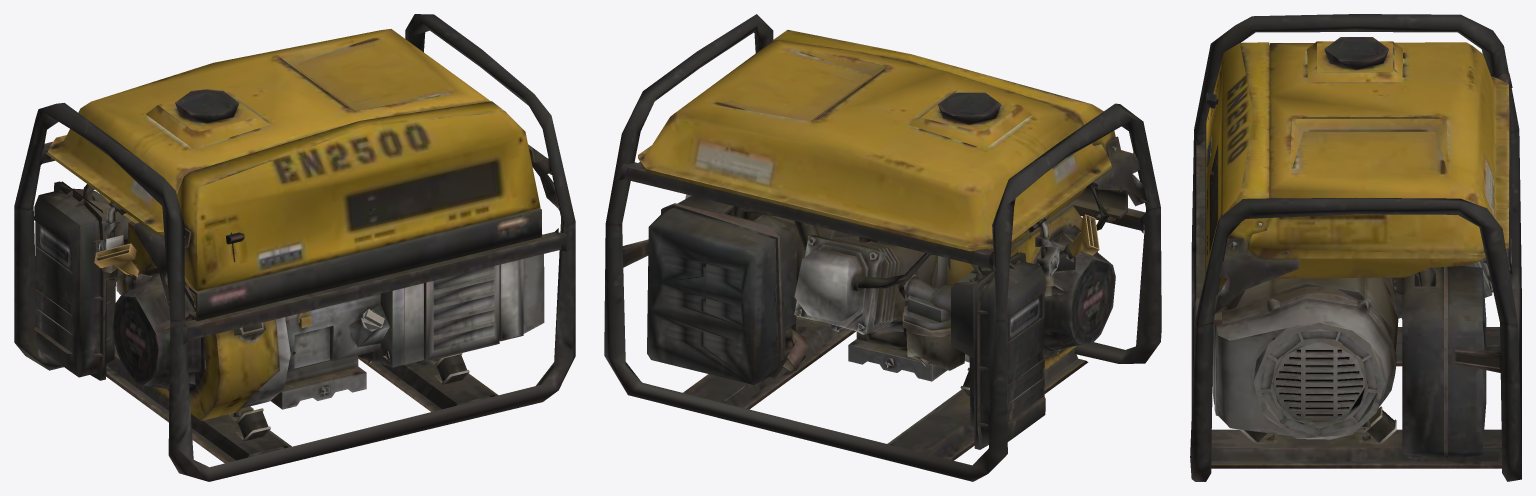
File: portable_generator.glb
The picture shows the model from 3 angles, left to right: view 1: azimuth 30°, elevation 25°; view 2: azimuth 150°, elevation 25°; view 3: azimuth 270°, elevation 25°; orthographic projection.
Visible parts, largest first — view 1: portable_generator; view 2: portable_generator; view 3: portable_generator.
Boxes of the visible parts, bbox=[...] form: portable_generator: bbox=[14, 14, 575, 481]; portable_generator: bbox=[604, 14, 1161, 481]; portable_generator: bbox=[1190, 14, 1521, 481].
Bounding box in the file's own units: 0.8166 × 0.5752 × 0.5615.
Materials: 2 (2 with a texture image).
